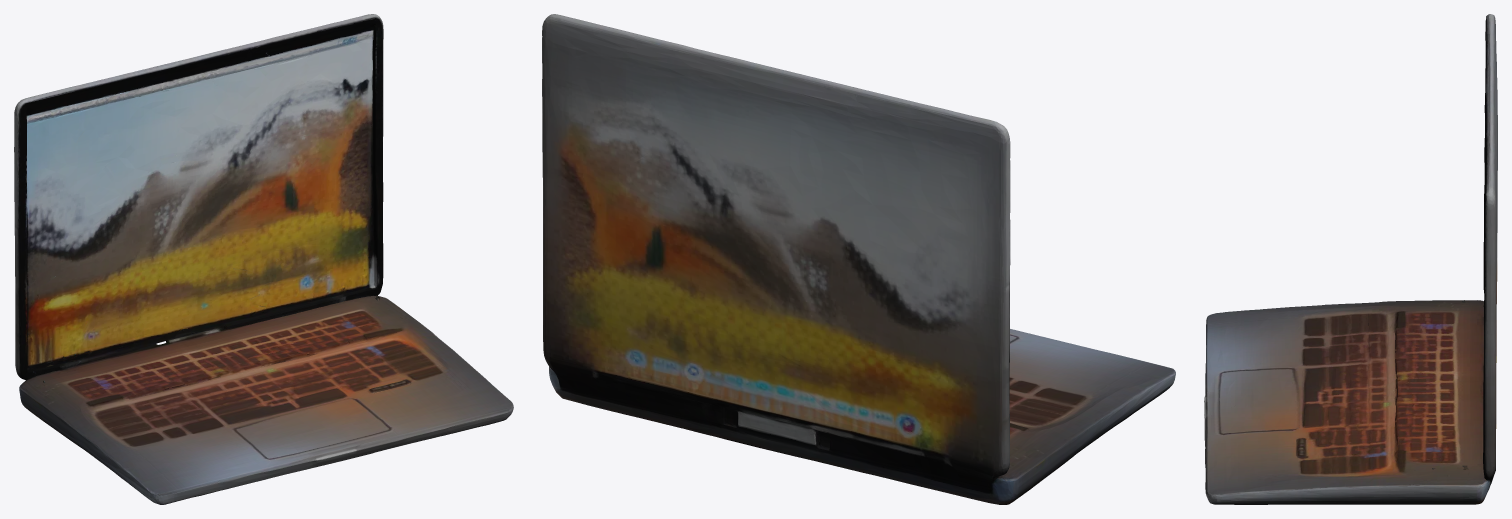
Rendered from abf19ef8-328d-44cc-a6a0-36c6d5859d52.glb.
The picture shows the model from 3 angles, left to right: view 1: azimuth 30°, elevation 25°; view 2: azimuth 150°, elevation 25°; view 3: azimuth 270°, elevation 25°; orthographic projection. The views are drawn at different scales.
Parts seen in each view (by area): view 1: world; view 2: world; view 3: world.
Part boxes in pixels (x1,y1,x2,y2): world: (14, 14, 513, 504); world: (542, 14, 1175, 504); world: (1204, 14, 1497, 504).
Bounding box in the file's own units: 0.9996 × 0.7984 × 0.6685.
Materials: 1 (1 with a texture image).
